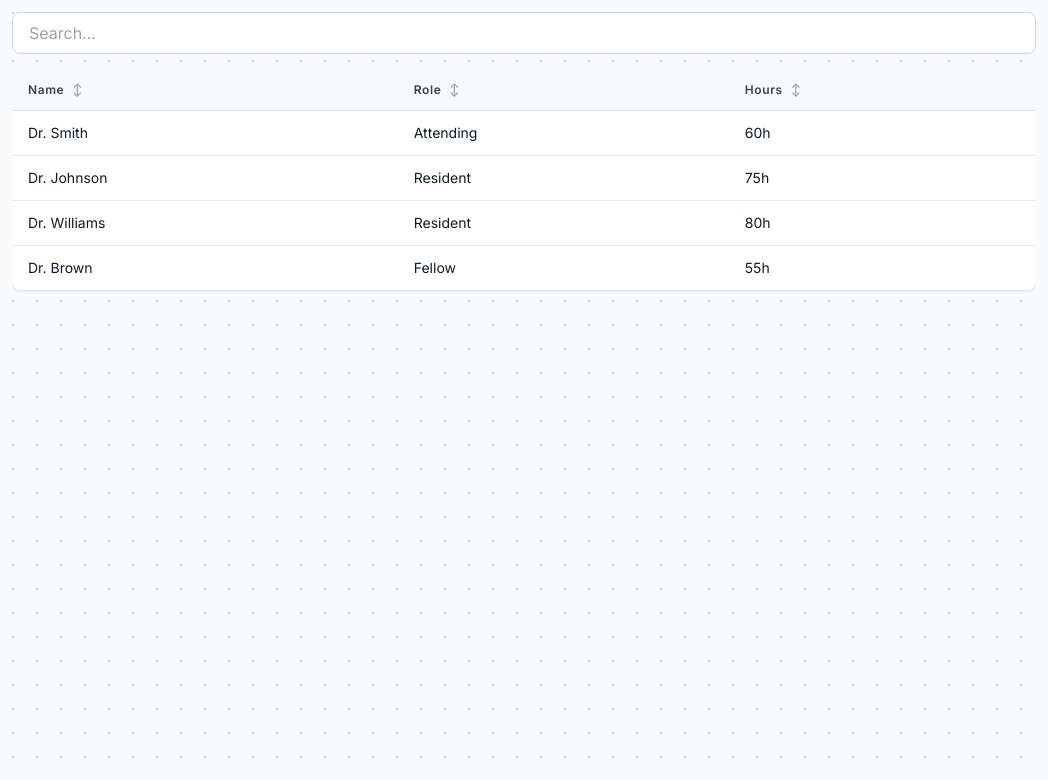
Scenario: DataTable › filters data based on search query
Type "Smith" into the field with placeholder "Search..." at (524, 33), box [12,12,1036,54]
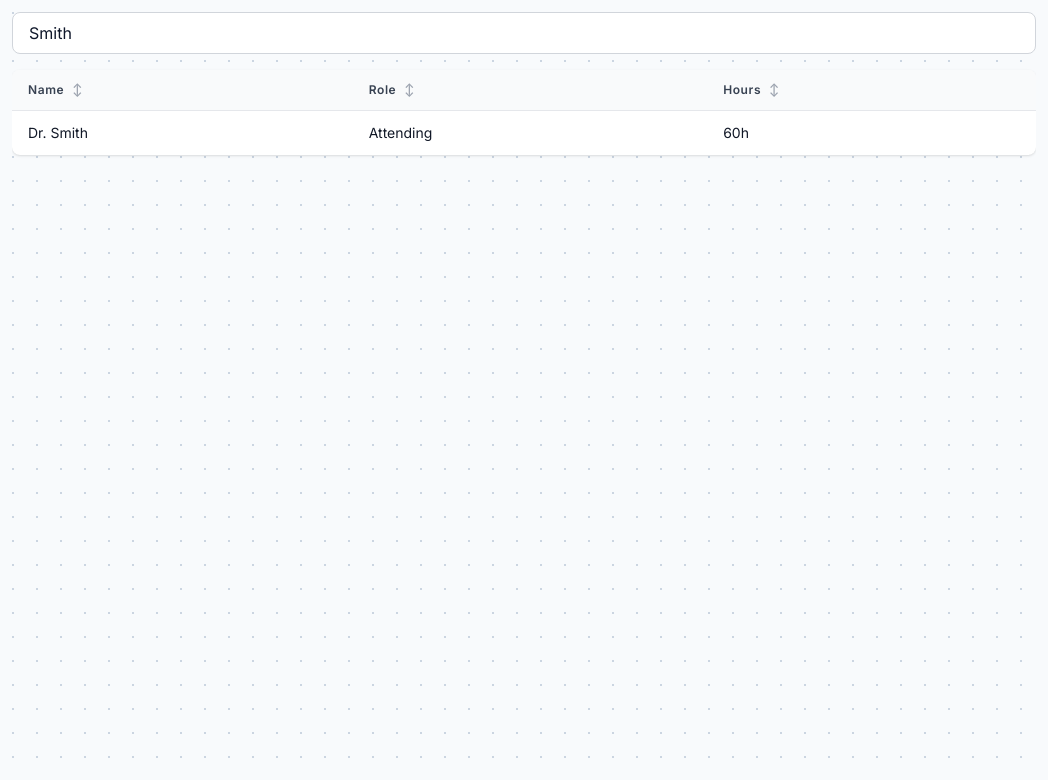
Expected: the text "Dr. Smith" is shown, [12,110,353,155]
Result: the text "Dr. Johnson" is gone
